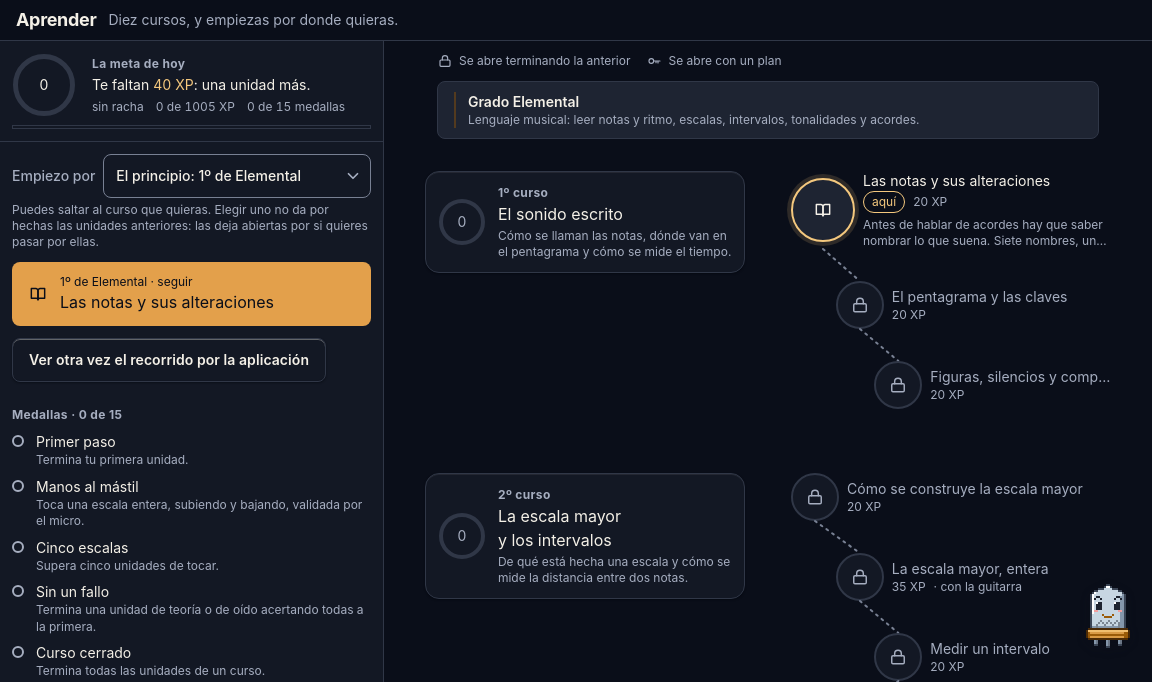
El profesor dentro del camino › al pulsarlo se queda y abre el formulario
The width and height of the screenshot is (1152, 682).
Click the button named "preguntarle al profesor" at point(1108, 616), box [1076,584,1140,648]
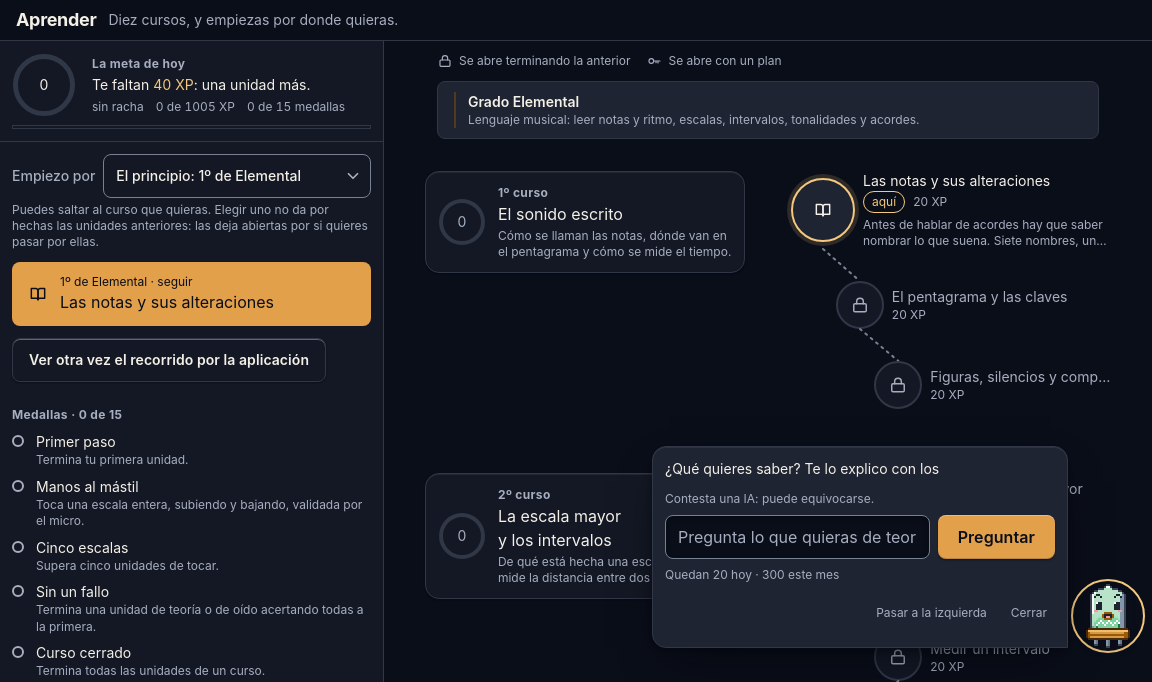
Check: the button named "cerrar el profesor" is shown, box [1076,584,1140,648]
Check: the field with placeholder "Pregunta lo que quieras de teoría" is shown, box [665,515,930,559]
